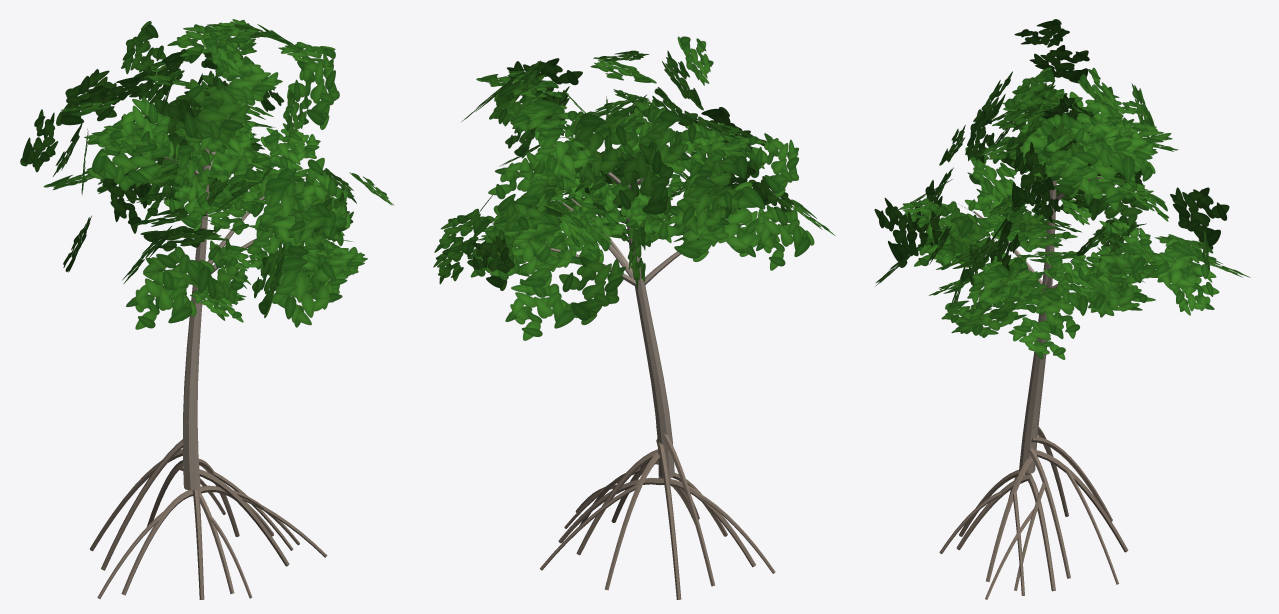
The model's file is arvore_mangue_b.glb.
3 renders of one model, left to right at view 1: azimuth 30°, elevation 25°; view 2: azimuth 150°, elevation 25°; view 3: azimuth 270°, elevation 25°, orthographic. The views are drawn at different scales.
Parts seen in each view (by area): view 1: arvore_mangue_b; view 2: arvore_mangue_b; view 3: arvore_mangue_b.
Boxes of the visible parts, box(x1,y1,x2,y2) form: arvore_mangue_b: box(20, 19, 393, 599); arvore_mangue_b: box(433, 36, 835, 599); arvore_mangue_b: box(874, 19, 1250, 599).
Size of the model in its own units: 5.07 by 7.9 by 5.36.
Materials: 3 (1 with a texture image).
